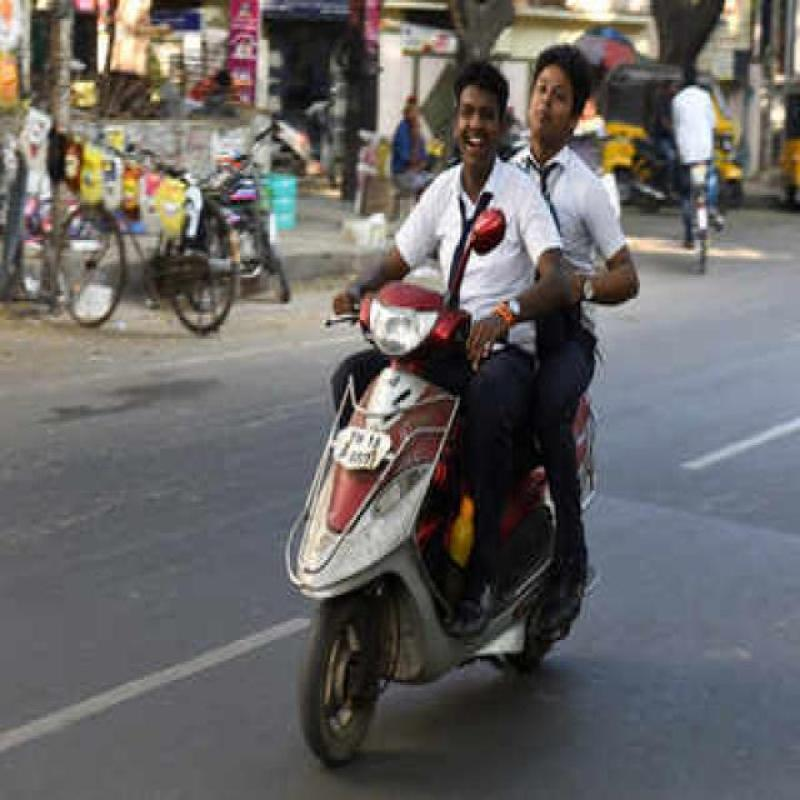nohelmet: (528, 39, 588, 165), (444, 60, 518, 158)
